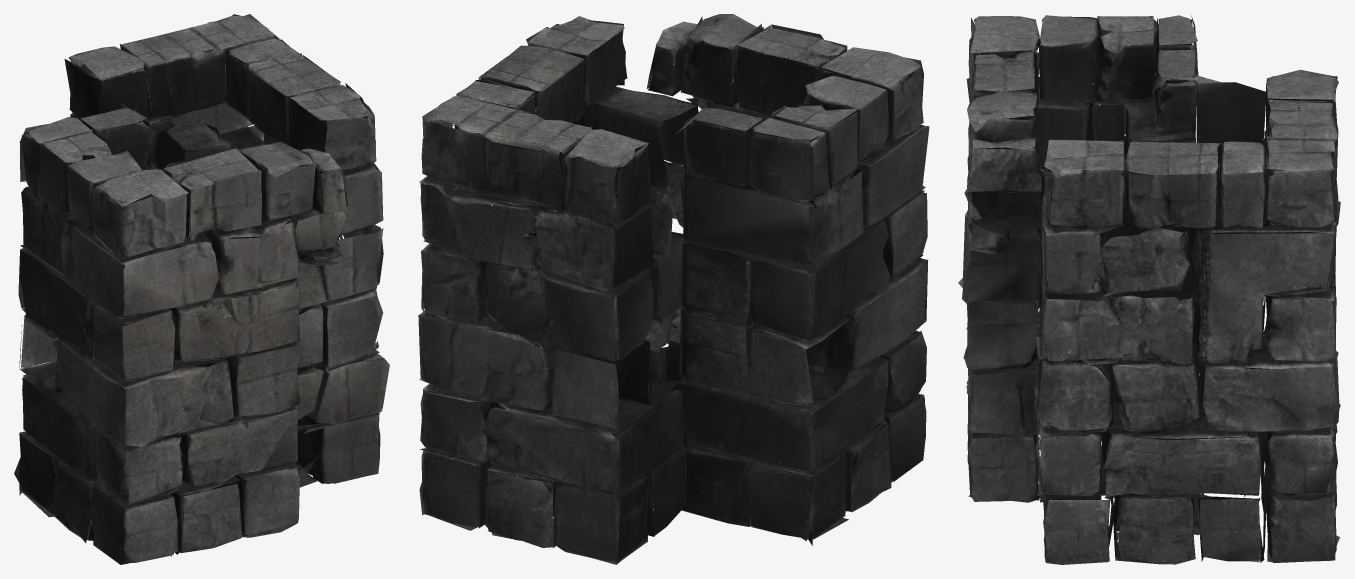
Rendered from wall_corner.glb.
The picture shows the model from 3 angles, left to right: view 1: azimuth 30°, elevation 25°; view 2: azimuth 150°, elevation 25°; view 3: azimuth 270°, elevation 25°; orthographic projection. The views are drawn at different scales.
Visible parts, largest first — view 1: world; view 2: world; view 3: world.
Boxes of the visible parts, <box> form: world: <box>14,14,389,564</box>; world: <box>418,14,929,564</box>; world: <box>958,15,1340,564</box>.
Bounding box in the file's own units: 0.8623 × 1.01 × 0.8682.
1 material, 1 textured.
